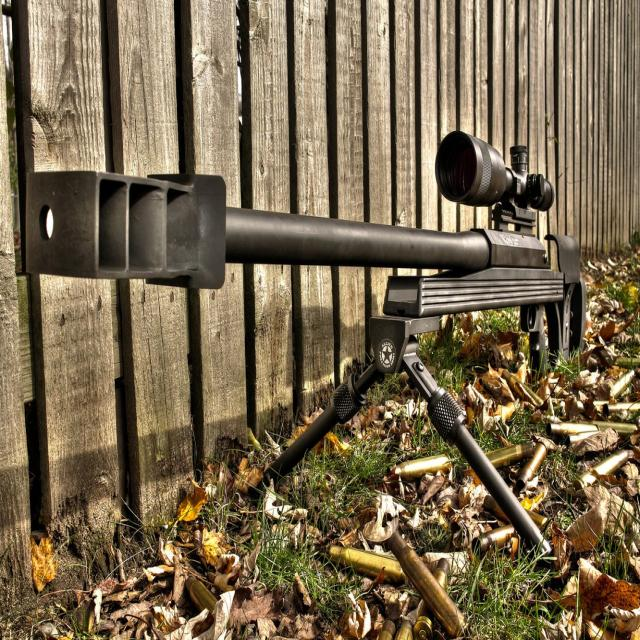Rifle: (25, 132, 587, 371)
